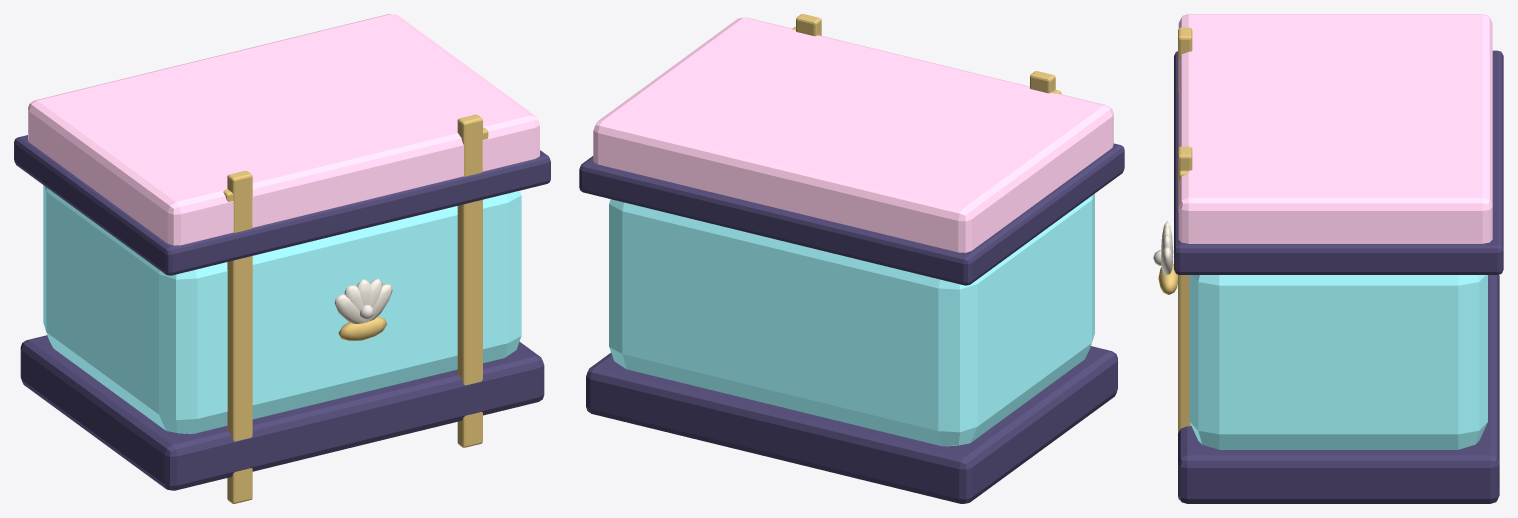
The model's file is pearl_toy_chest.glb.
3 views of the same model, side by side, from view 1: azimuth 30°, elevation 25°; view 2: azimuth 150°, elevation 25°; view 3: azimuth 270°, elevation 25° (orthographic). The views are drawn at different scales.
Parts seen in each view (by area): view 1: pearl_toy_chest.001; view 2: pearl_toy_chest.001; view 3: pearl_toy_chest.001.
Boxes of the visible parts, x1,y1,x2,y2 form: pearl_toy_chest.001: (14,14,550,503); pearl_toy_chest.001: (579,14,1124,503); pearl_toy_chest.001: (1153,14,1503,503).
Bounding box in the file's own units: 6 × 4.85 × 4.46.
